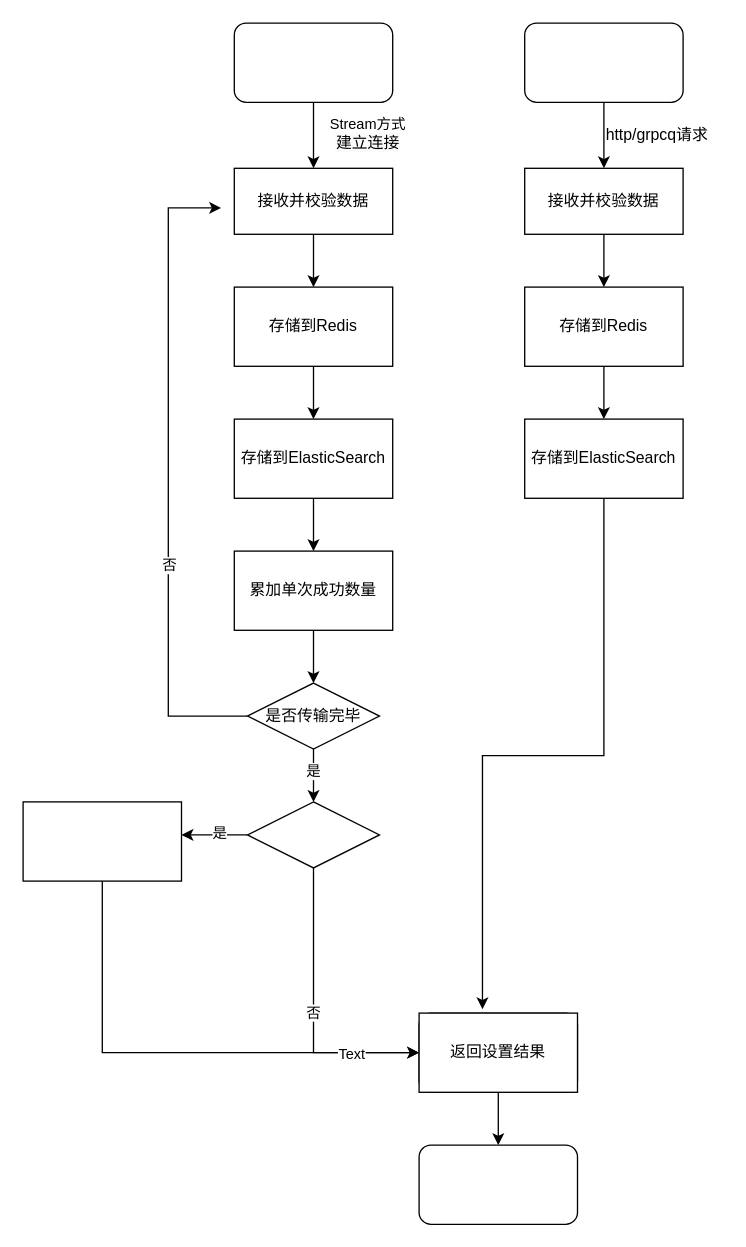
The diagram is 746 pixels wide and 1247 high, and some of its shapes have lost their labels. Here are the shapes that lost their labels. From the top down, the box of each, then its label:
(233, 22, 393, 102): 批量导入（版本原子切换）
(523, 22, 683, 102): 批量设置（实时生效）
(22, 801, 182, 881): 数据版本切换
(246, 801, 380, 868): 是否全部传输成功
(418, 1144, 578, 1224): 结束
